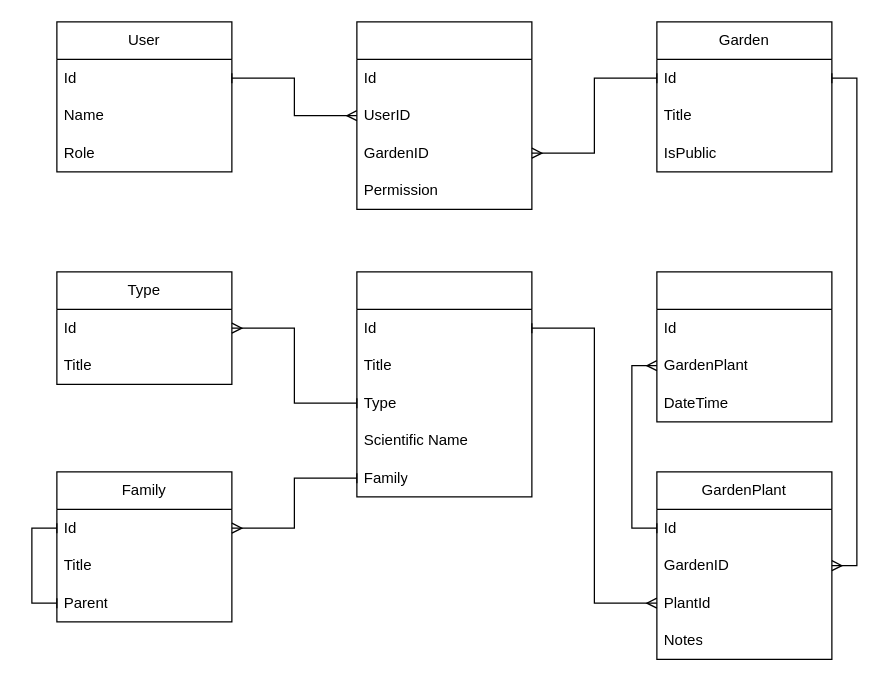
Some shapes in this 890 by 681 pixel diagram are drawn without their labels. Each missing label, with the box of its shape:
PermissionGarden: (356, 21, 532, 209)
Plant: (356, 271, 532, 497)
Watering: (656, 271, 832, 422)
